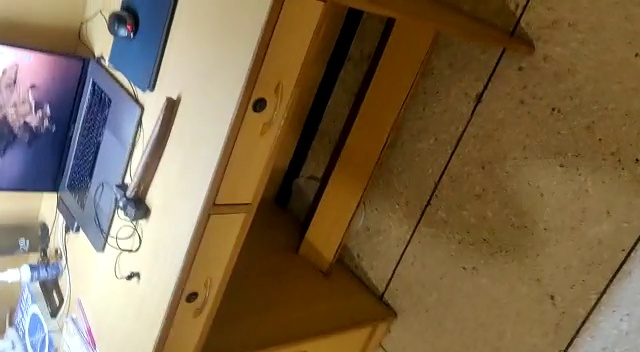hammer: (111, 96, 177, 222)
